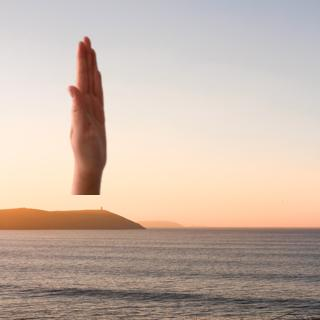Right: (59, 33, 116, 186)
